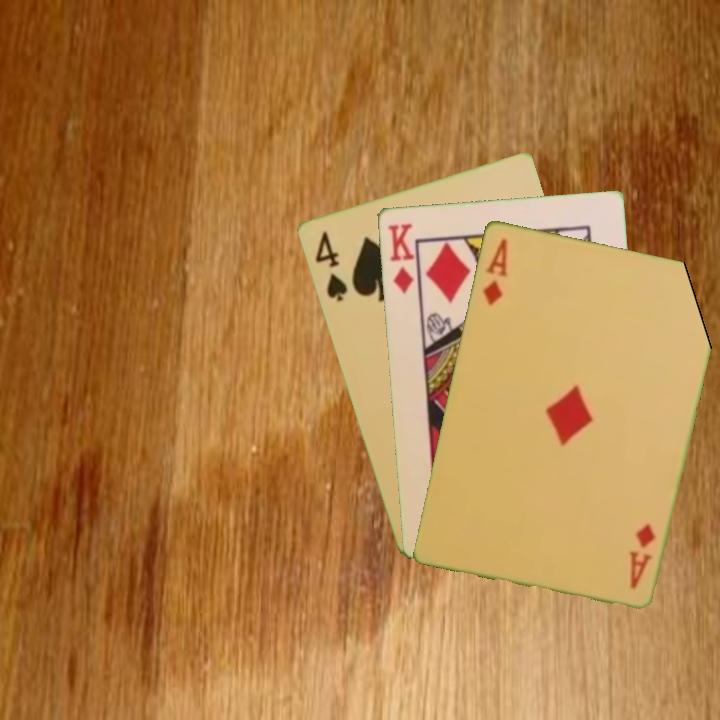4s: (311, 227, 350, 304)
Ad: (626, 519, 658, 591), (479, 234, 510, 308)
Kd: (384, 219, 417, 296)
